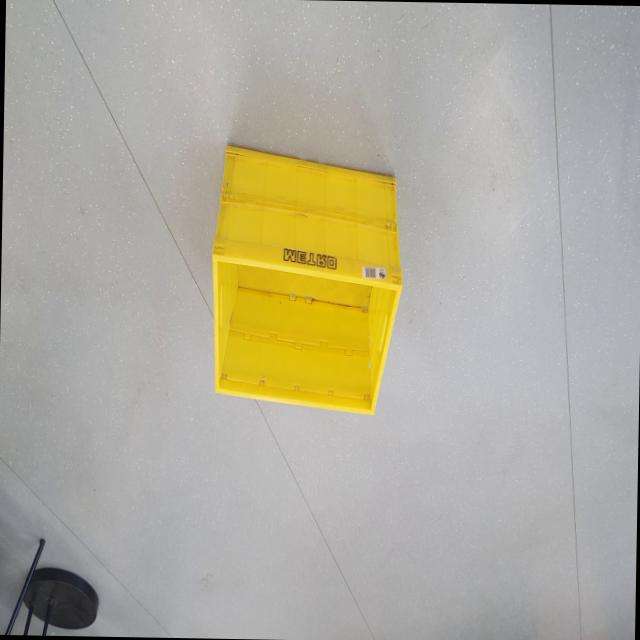box: (190, 133, 407, 430)
